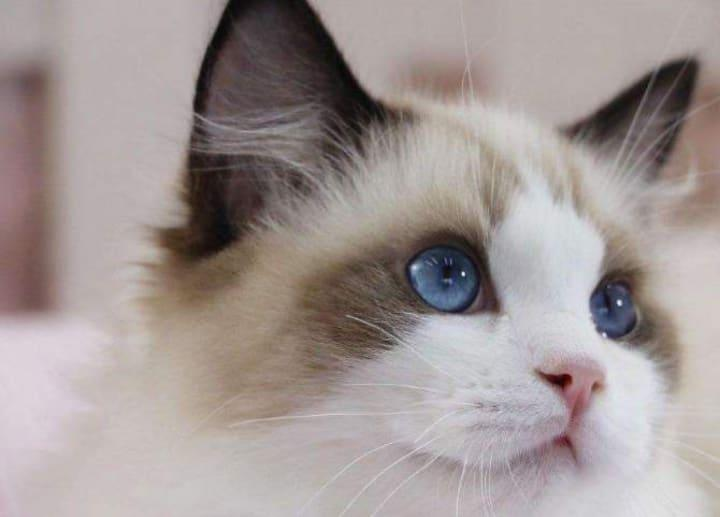ragdoll: (159, 1, 720, 517)
